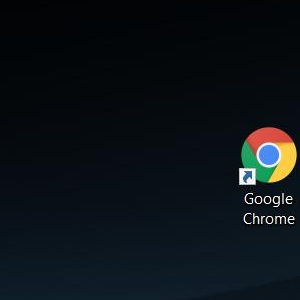chrome: (238, 126, 296, 185)
